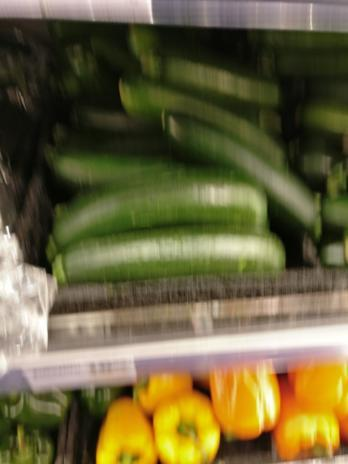Capsicum: (90, 368, 348, 464)
Cucumber: (45, 27, 348, 261)
